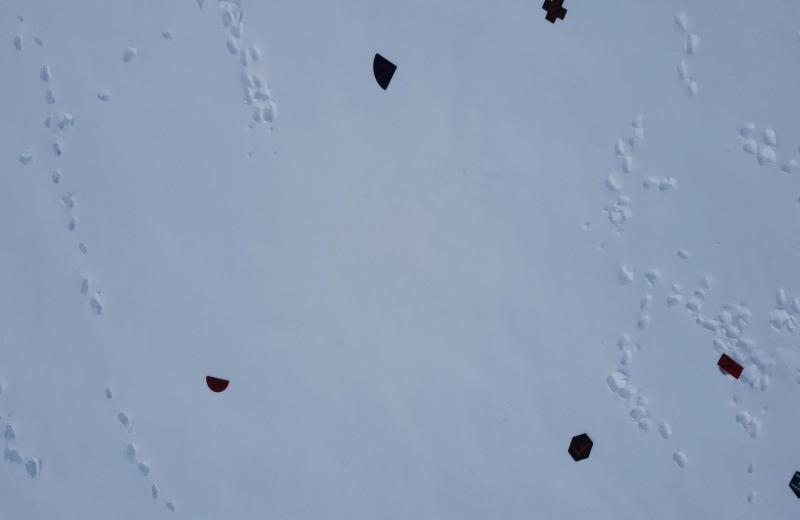Cross: (543, 0, 570, 36)
Hexagon: (567, 431, 598, 467)
Quarter Circle: (370, 46, 401, 94)
Rectangle: (1, 0, 800, 520), (716, 352, 744, 384)
Semi Circle: (203, 370, 230, 400)
